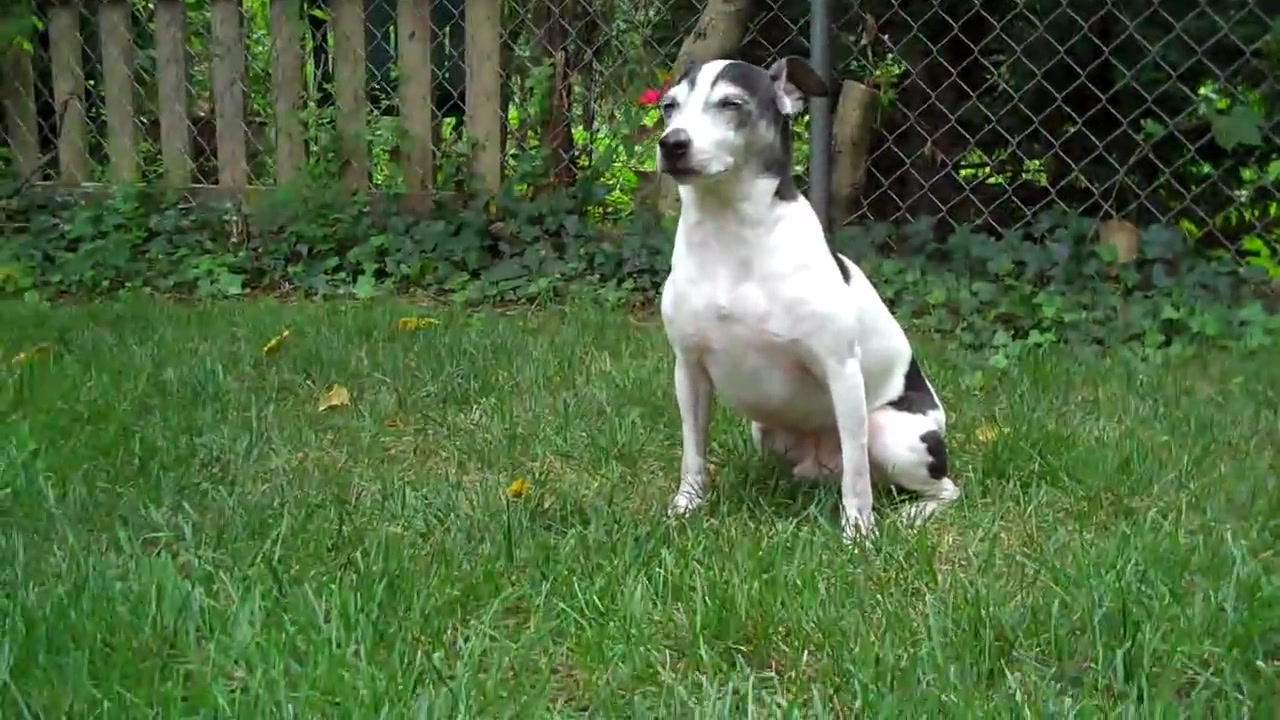dog: (654, 53, 961, 545)
